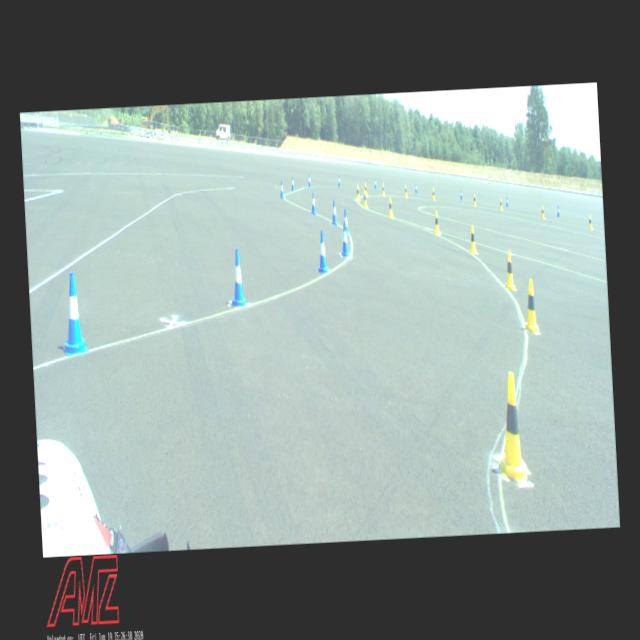blue_cone: (60, 272, 88, 356), (228, 248, 248, 308), (316, 230, 329, 274), (340, 222, 350, 256), (344, 208, 350, 238), (331, 200, 338, 225), (310, 192, 316, 214), (279, 180, 284, 198), (291, 176, 295, 192), (373, 178, 378, 189), (556, 206, 560, 217), (414, 184, 418, 194), (308, 174, 311, 187), (338, 175, 340, 187), (506, 196, 508, 208), (460, 188, 462, 200)
yellow_cone: (496, 372, 527, 480), (523, 279, 539, 333), (504, 250, 516, 290), (468, 226, 477, 253), (432, 211, 440, 235), (362, 190, 368, 208), (388, 198, 393, 218), (588, 215, 593, 229), (472, 194, 477, 207), (540, 206, 545, 219), (356, 185, 360, 201), (364, 182, 368, 198), (499, 198, 503, 212), (404, 185, 408, 198), (432, 188, 436, 201), (382, 184, 386, 196)
